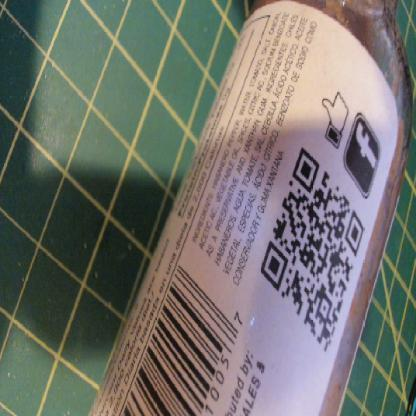barcode: (107, 261, 247, 416)
qr: (252, 142, 371, 360)
